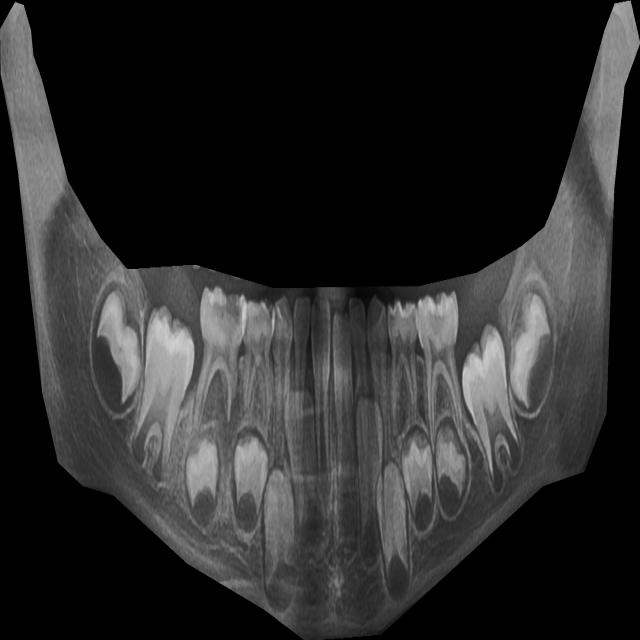mandibula: (0, 0, 640, 640)
